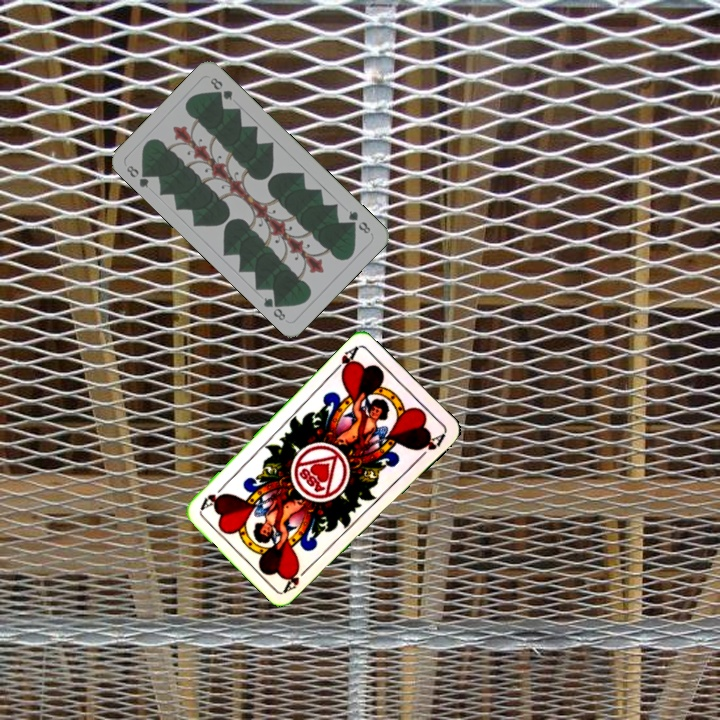G8: (122, 161, 153, 191), (344, 206, 373, 236)
HA: (328, 343, 361, 378), (280, 562, 313, 595)
